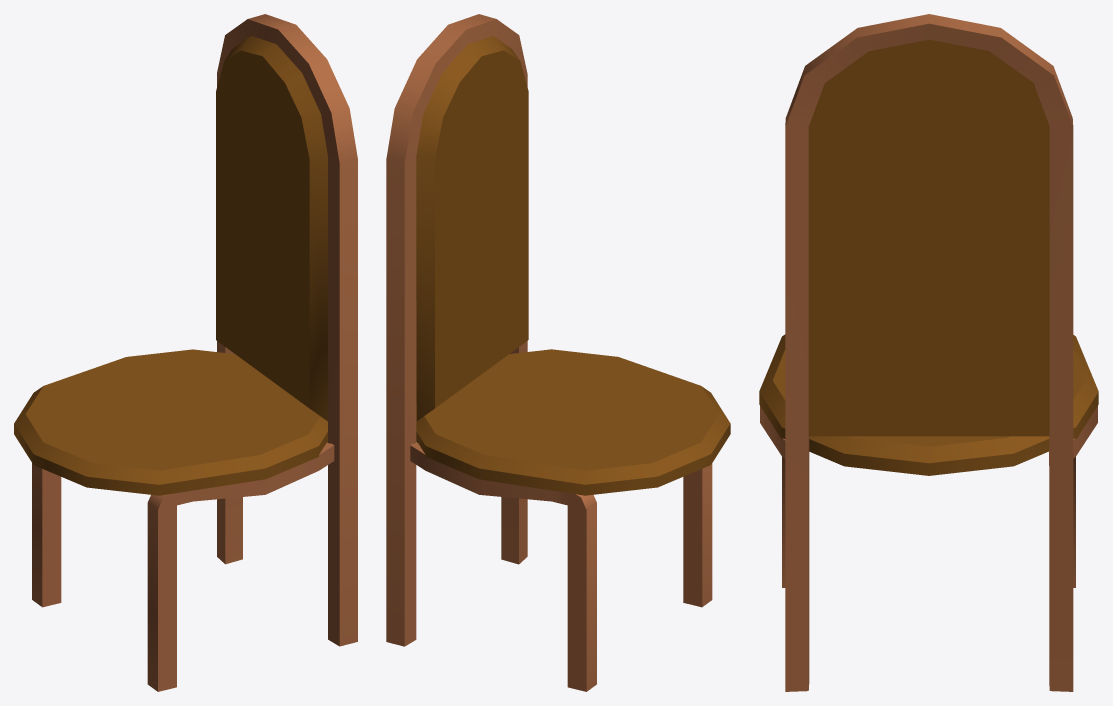
Rendered from coffe_chair_01.fbx.
3 renders of one model, left to right at view 1: azimuth 30°, elevation 25°; view 2: azimuth 150°, elevation 25°; view 3: azimuth 270°, elevation 25°, orthographic. The views are drawn at different scales.
Parts seen in each view (by area): view 1: coffe_chair_01; view 2: coffe_chair_01; view 3: coffe_chair_01.
Part boxes in pixels (<box>): coffe_chair_01: <box>14,14,357,691</box>; coffe_chair_01: <box>386,14,730,691</box>; coffe_chair_01: <box>759,14,1098,691</box>.
Bounding box in the file's own units: 0.7335 × 1.41 × 0.647.
